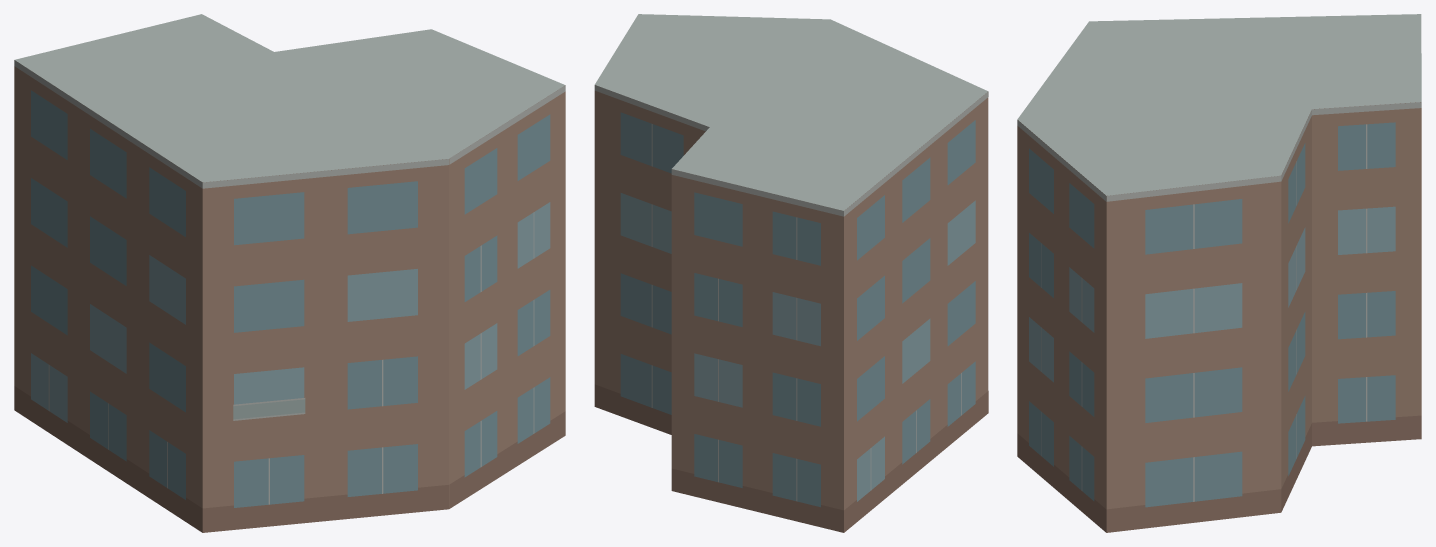
The model's file is survey-upis-32679430.glb.
3 views of the same model, side by side, from view 1: azimuth 30°, elevation 25°; view 2: azimuth 150°, elevation 25°; view 3: azimuth 270°, elevation 25° (orthographic). The views are drawn at different scales.
Parts seen in each view (by area): view 1: survey-upis-32679430.tmp; view 2: survey-upis-32679430.tmp; view 3: survey-upis-32679430.tmp.
Boxes of the visible parts, <box> form: survey-upis-32679430.tmp: <box>14,14,565,532</box>; survey-upis-32679430.tmp: <box>594,14,988,532</box>; survey-upis-32679430.tmp: <box>1017,14,1421,532</box>.
Bounding box in the file's own units: 15.86 × 13.7 × 14.91.
